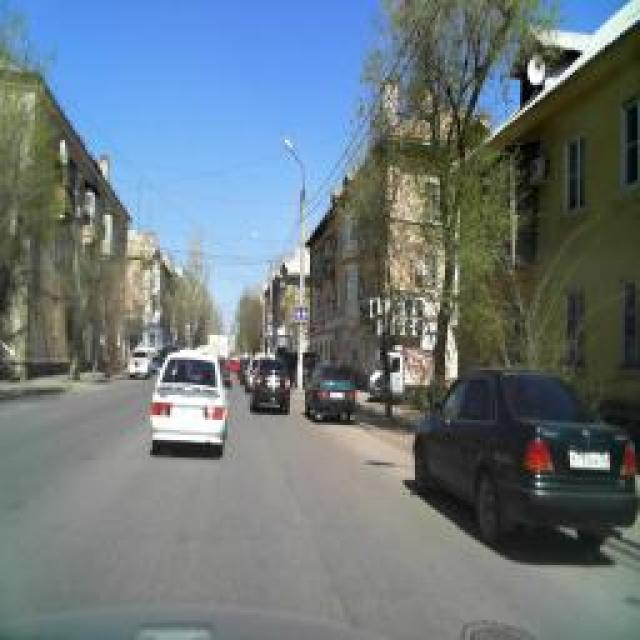sign: (268, 311, 272, 321)
